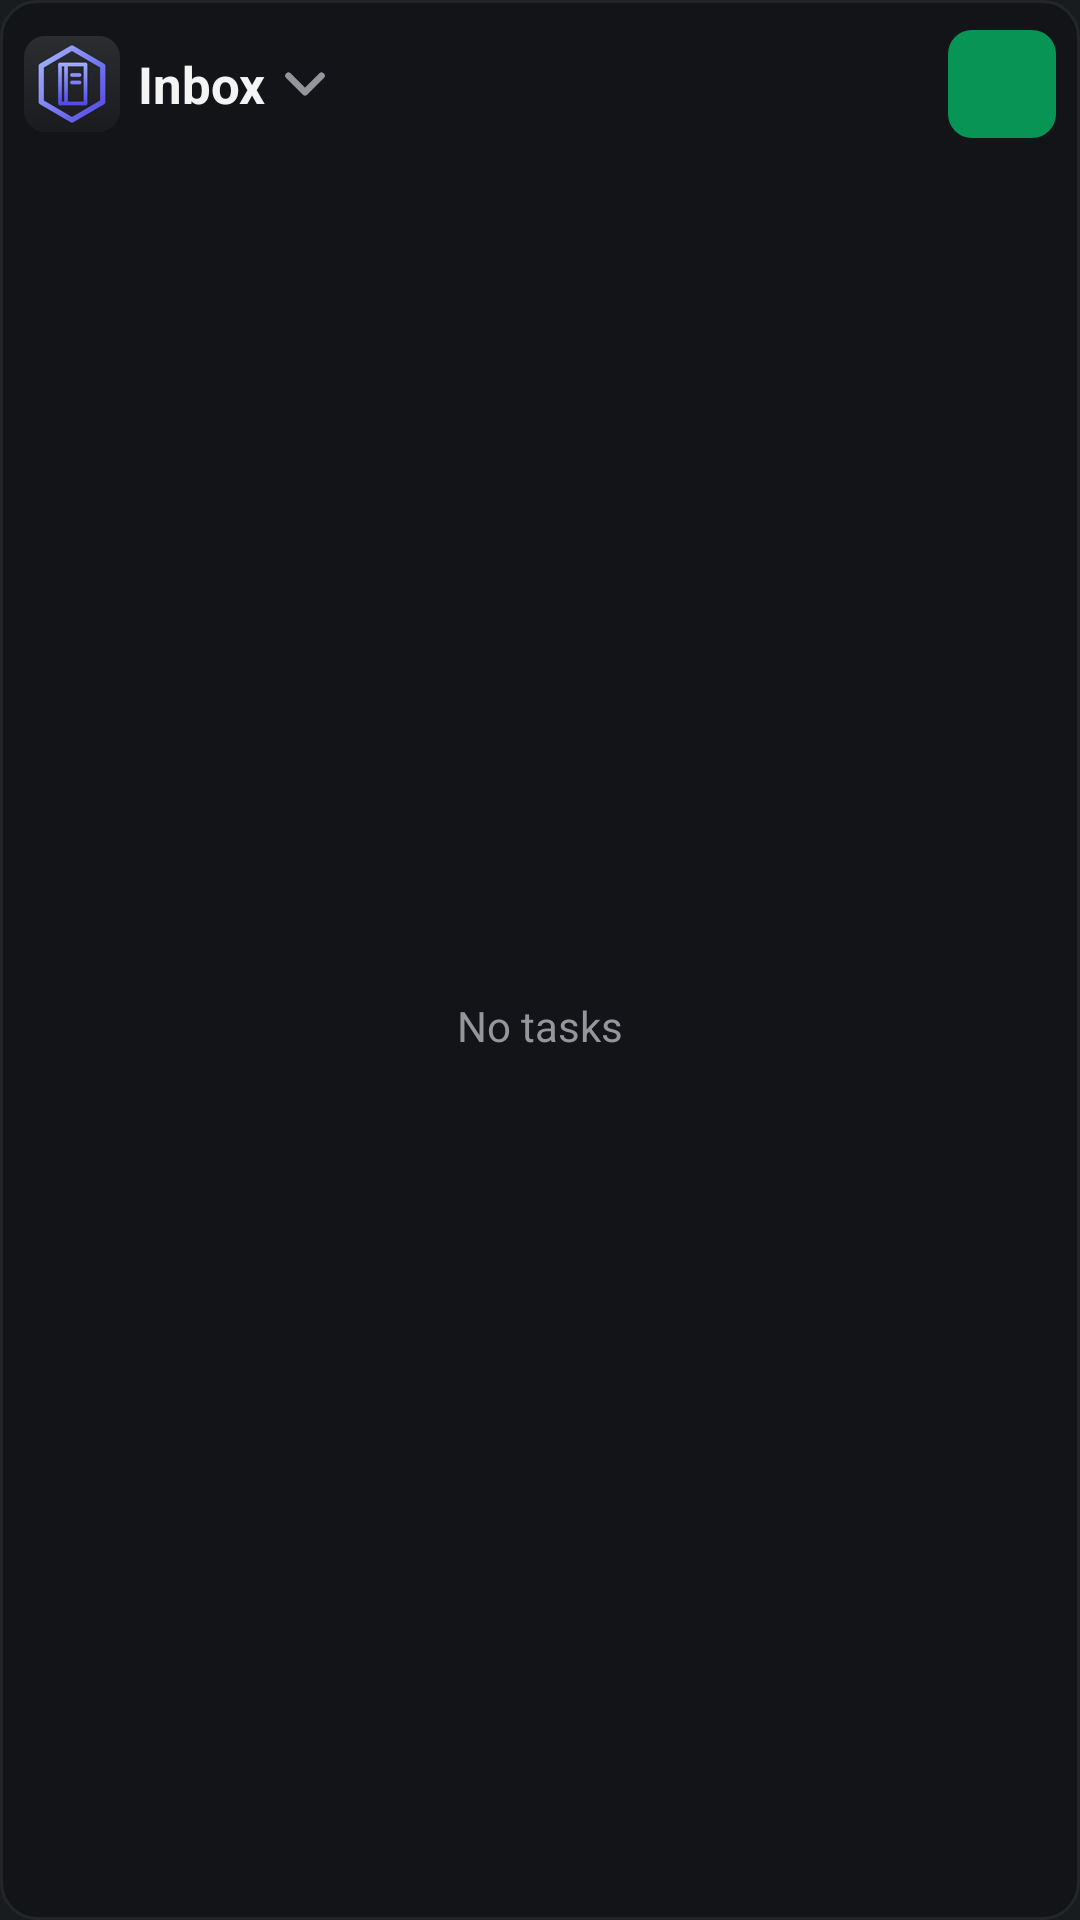

Icons on this 1080×1920 Android screen, each with its box as bbox=(x1, y1, x2, y2):
widget chevron down: bbox=(285, 72, 325, 96)
